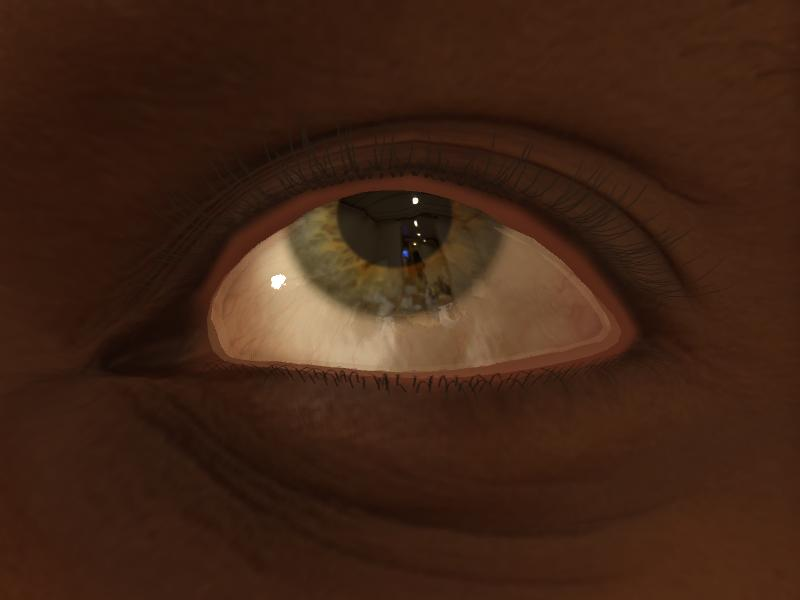eye: (288, 186, 502, 318)
